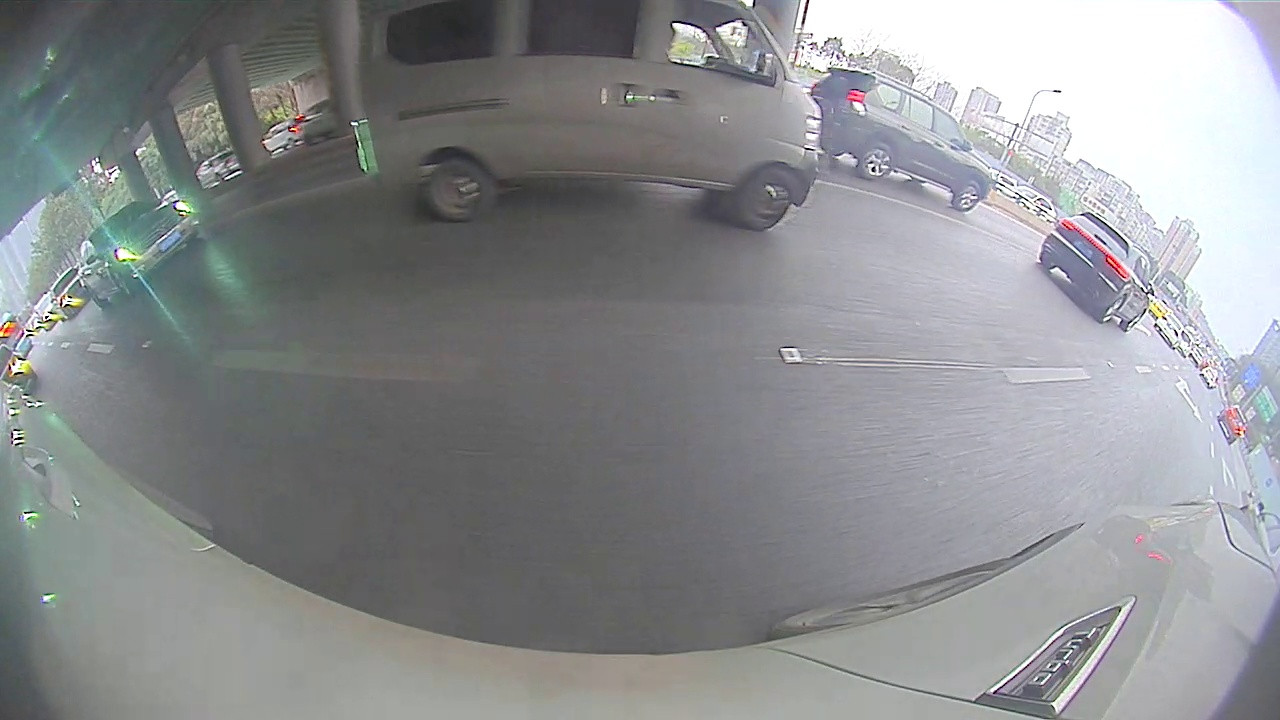car: (355, 0, 824, 232), (809, 65, 995, 212), (1038, 210, 1153, 332), (76, 202, 202, 306), (1, 340, 40, 399), (50, 265, 91, 319)
front: (733, 168, 798, 231), (951, 182, 981, 214)
rear: (422, 158, 490, 223), (858, 145, 895, 181), (1100, 294, 1128, 325)
